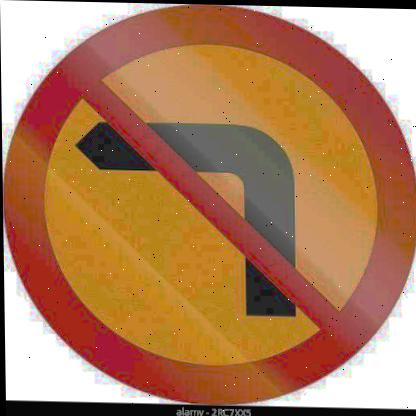No left turn: (0, 0, 416, 406)
